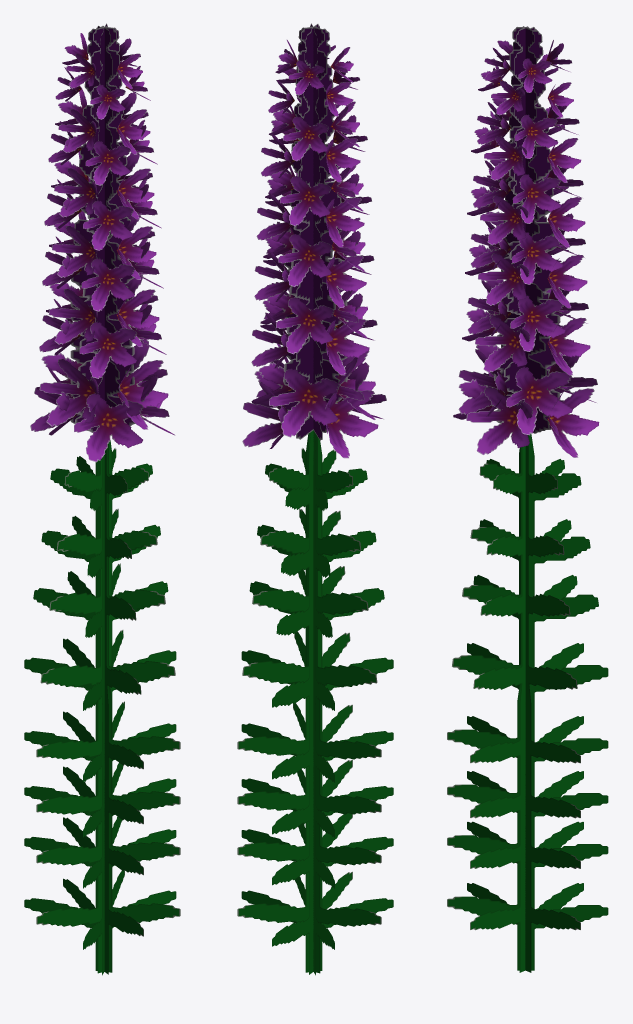
Rendered from purple_loosestrife.fbx.
3 renders of one model, left to right at view 1: azimuth 30°, elevation 25°; view 2: azimuth 150°, elevation 25°; view 3: azimuth 270°, elevation 25°, orthographic.
Visible parts, largest first — view 1: purple_loosestrife; view 2: purple_loosestrife; view 3: purple_loosestrife.
Boxes of the visible parts, x1=… form: purple_loosestrife: x1=24, y1=23, x2=180, y2=975; purple_loosestrife: x1=237, y1=23, x2=393, y2=975; purple_loosestrife: x1=447, y1=26, x2=608, y2=972.
Size of the model in its own units: 62.58 by 350 by 62.58.
Materials: 1 (1 with a texture image).
